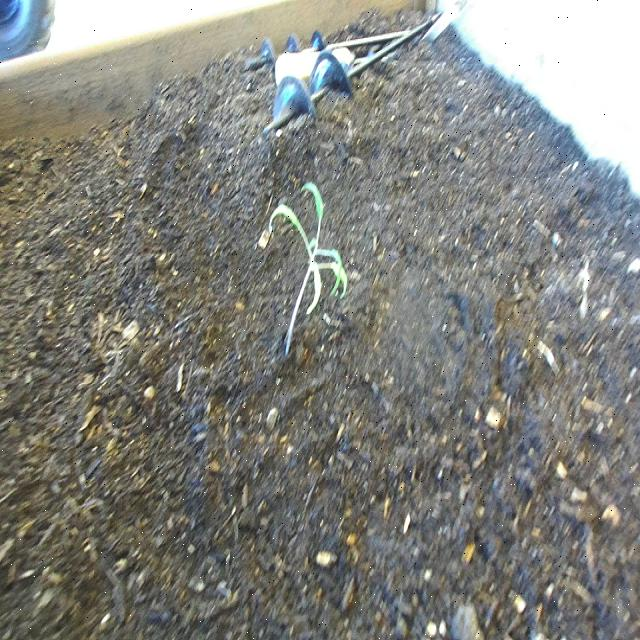Healthy: (267, 180, 350, 362)
